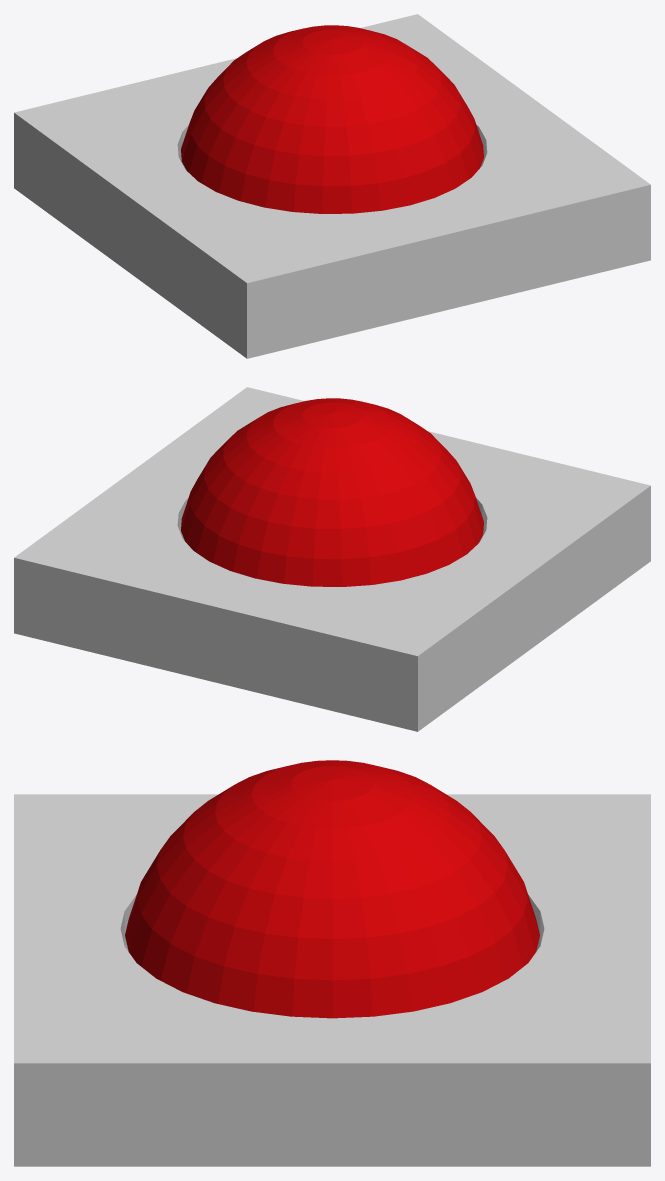
Rendered from textured push button red.fbx.
3 views of the same model, one above another, from view 1: azimuth 30°, elevation 25°; view 2: azimuth 150°, elevation 25°; view 3: azimuth 270°, elevation 25° (orthographic). The views are drawn at different scales.
Parts seen in each view (by area): view 1: Cube, Sphere; view 2: Cube, Sphere; view 3: Cube, Sphere.
Boxes of the visible parts, box(x1,y1,x2,y2) form: Cube: box(14, 14, 650, 358); Sphere: box(181, 25, 483, 213); Cube: box(14, 387, 650, 731); Sphere: box(181, 398, 483, 586); Cube: box(14, 794, 650, 1166); Sphere: box(125, 760, 539, 1018).
Size of what is drawn, in the model's own units: 486 by 213 by 486.
